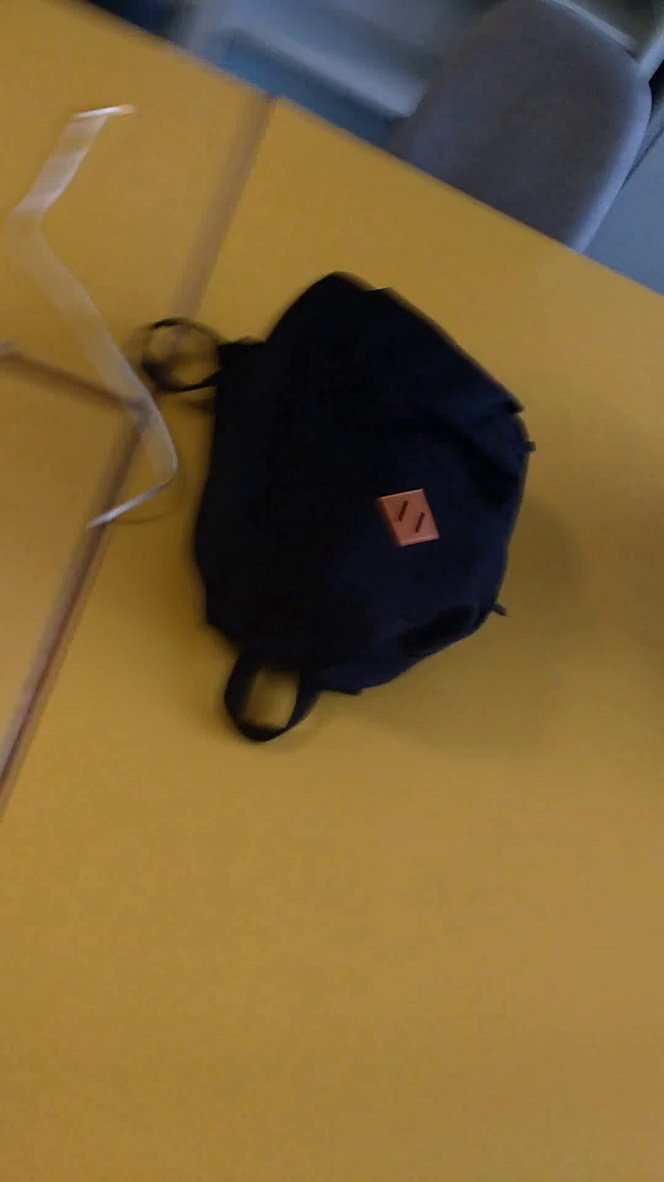bag: (129, 251, 542, 752)
chair: (388, 2, 664, 284)
